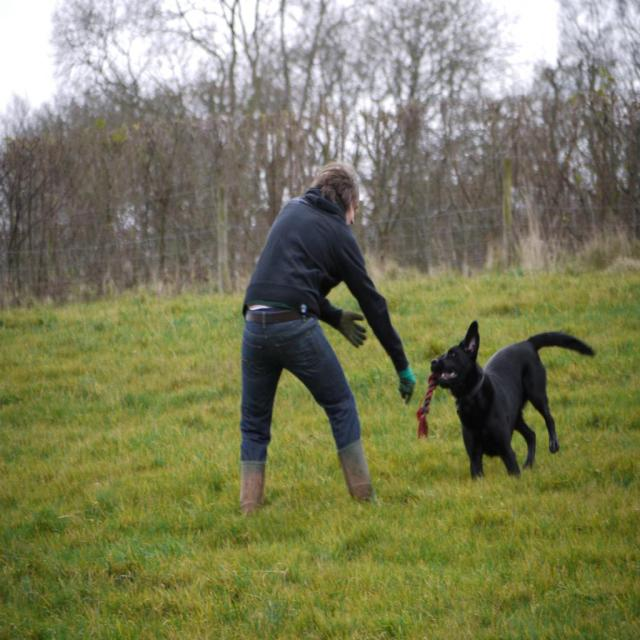Dog: (427, 318, 601, 476)
